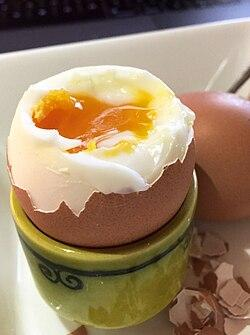telur: (33, 85, 173, 221)
